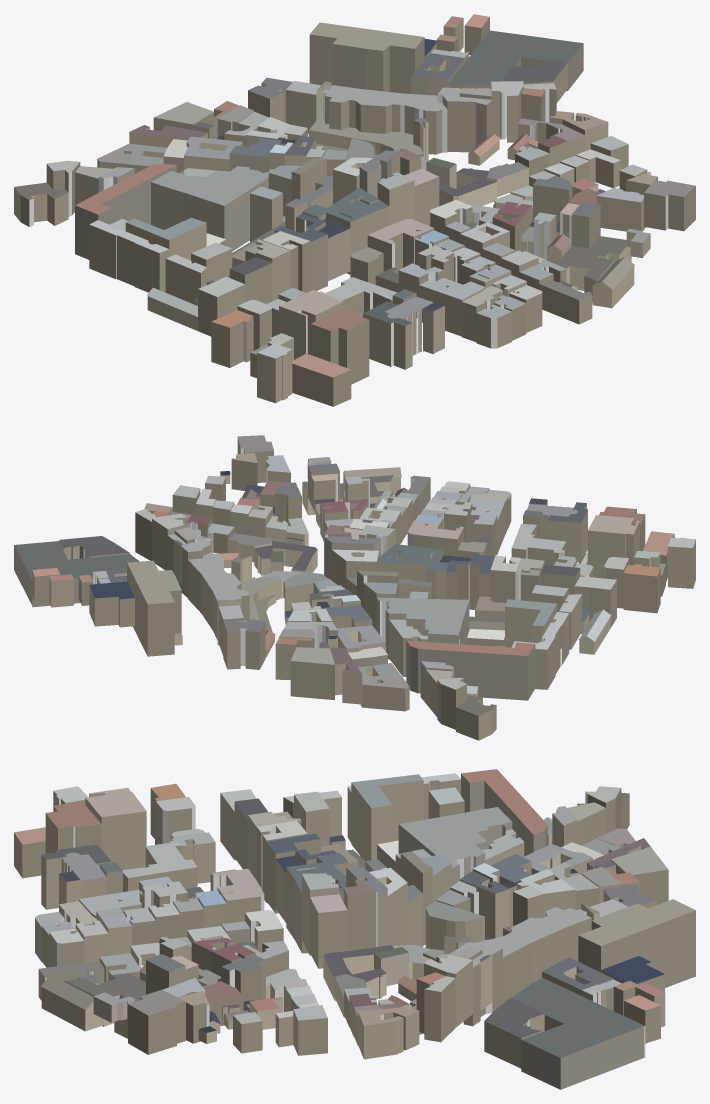
3 renders of one model, top to bottom at view 1: azimuth 30°, elevation 25°; view 2: azimuth 150°, elevation 25°; view 3: azimuth 270°, elevation 25°, orthographic. The views are drawn at different scales.
Visible parts, largest first — view 1: tuile; view 2: tuile; view 3: tuile.
Part boxes in pixels (bbox=[...]): tuile: bbox=[14, 14, 695, 406]; tuile: bbox=[14, 435, 695, 740]; tuile: bbox=[14, 769, 695, 1089].
Size of the model in its own units: 295 by 51.5 by 278.
